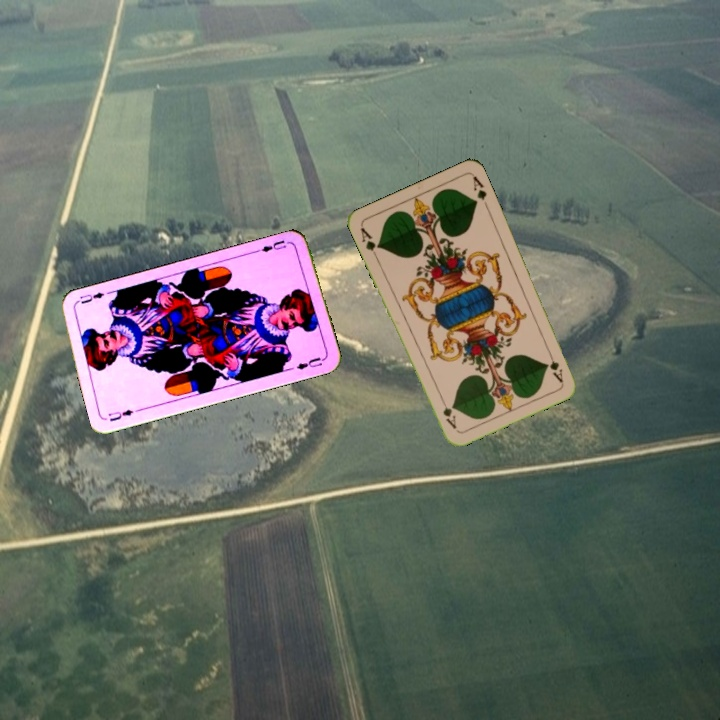EU: (104, 404, 144, 424), (253, 236, 288, 255)
GA: (356, 223, 382, 261), (543, 346, 565, 385)
